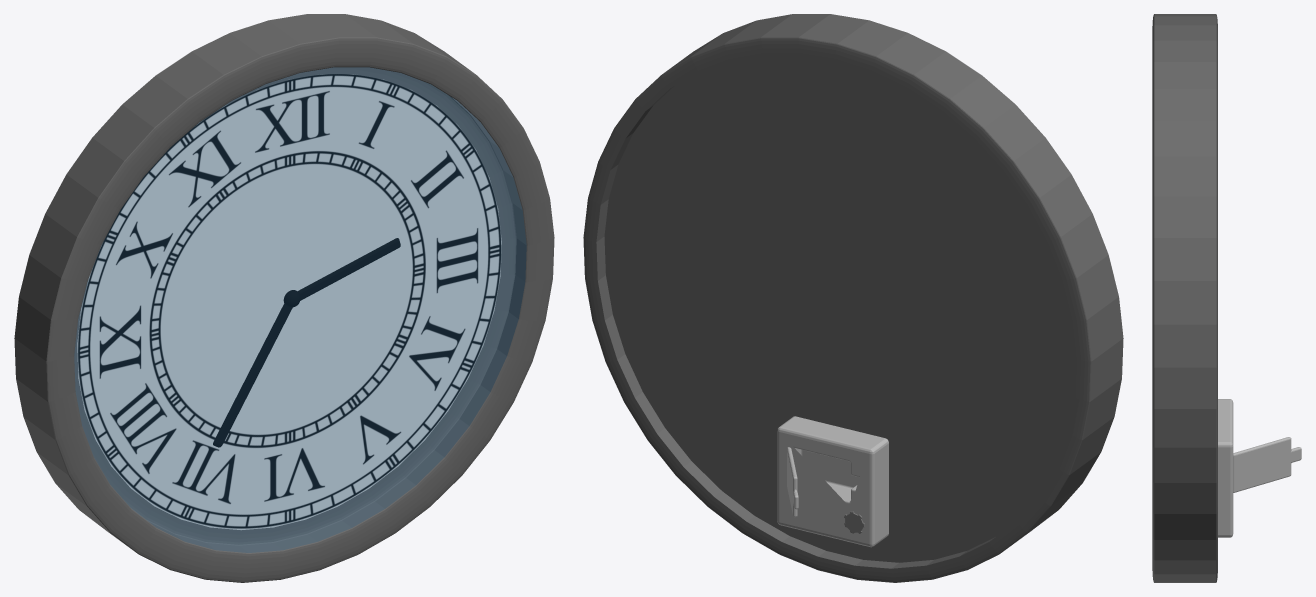
The model's file is Horloge1.fbx.
The picture shows the model from 3 angles, left to right: view 1: azimuth 30°, elevation 25°; view 2: azimuth 150°, elevation 25°; view 3: azimuth 270°, elevation 25°; orthographic projection. The views are drawn at different scales.
Parts seen in each view (by area): view 1: Horloge, AiguilleMinute, AiguilleHeure; view 2: Horloge, Boitier; view 3: Horloge, Clapet, Boitier.
Part boxes in pixels (x1=…): Horloge: x1=14, y1=14, x2=554, y2=582; AiguilleMinute: x1=213, y1=303, x2=292, y2=447; AiguilleHeure: x1=297, y1=238, x2=400, y2=300; Horloge: x1=583, y1=14, x2=1123, y2=582; Boitier: x1=777, y1=416, x2=888, y2=547; Horloge: x1=1152, y1=14, x2=1217, y2=582; Clapet: x1=1233, y1=437, x2=1301, y2=492; Boitier: x1=1218, y1=399, x2=1233, y2=537.
Size of the model in its own units: 169 by 169 by 44.33.
